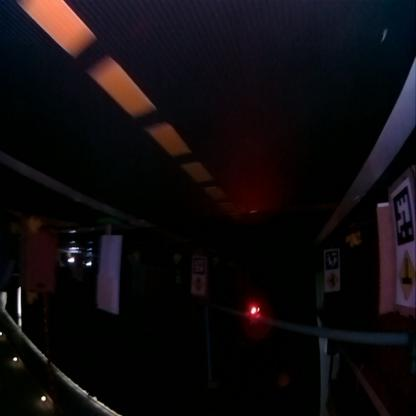Duckie: (352, 235, 360, 246), (345, 238, 354, 247)
Intersection sign: (398, 252, 412, 304), (326, 272, 338, 290)
QR code: (392, 189, 409, 246), (326, 249, 338, 270), (192, 259, 204, 275)
Signal sign: (192, 277, 204, 295)
Traffic light: (247, 304, 260, 321)
